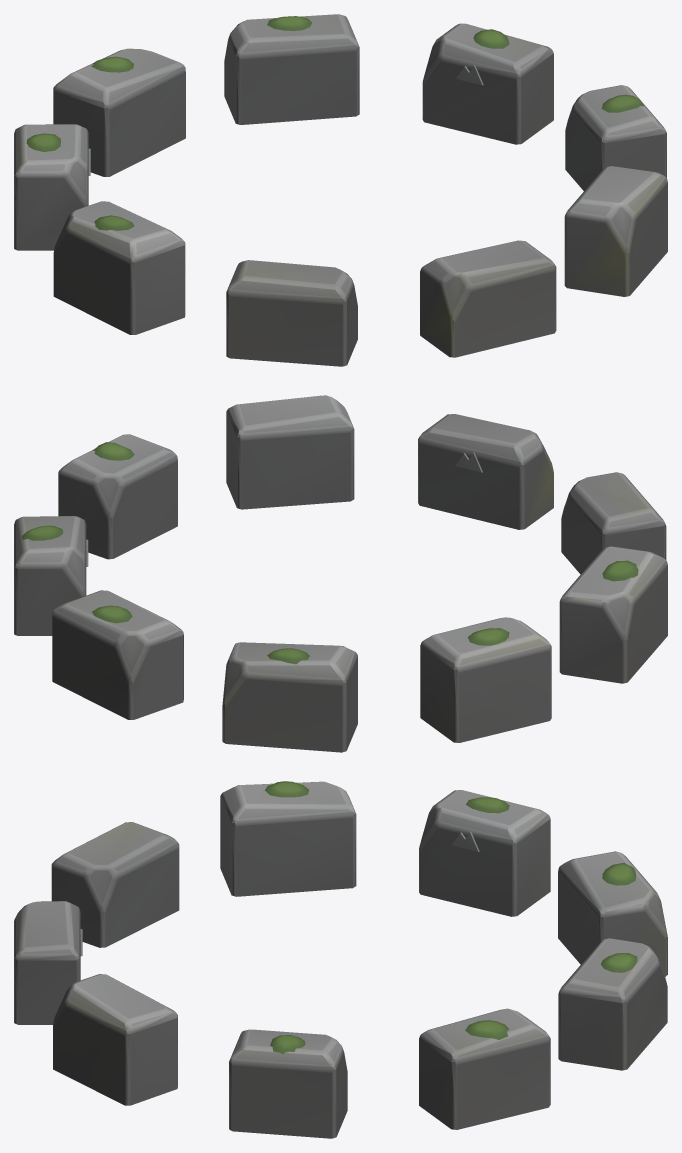
The model's file is mech_lectern_ring.glb.
3 renders of one model, top to bottom at view 1: azimuth 30°, elevation 25°; view 2: azimuth 150°, elevation 25°; view 3: azimuth 270°, elevation 25°, orthographic.
Parts seen in each view (by area): view 1: mech_lectern_ring_LOD0; view 2: mech_lectern_ring_LOD0; view 3: mech_lectern_ring_LOD0.
Boxes of the visible parts, bbox=[...] form: mech_lectern_ring_LOD0: bbox=[14, 14, 667, 366]; mech_lectern_ring_LOD0: bbox=[14, 395, 667, 752]; mech_lectern_ring_LOD0: bbox=[14, 781, 667, 1138].
Size of what is drawn, in the model's own units: 5.24 by 0.7645 by 5.16.
